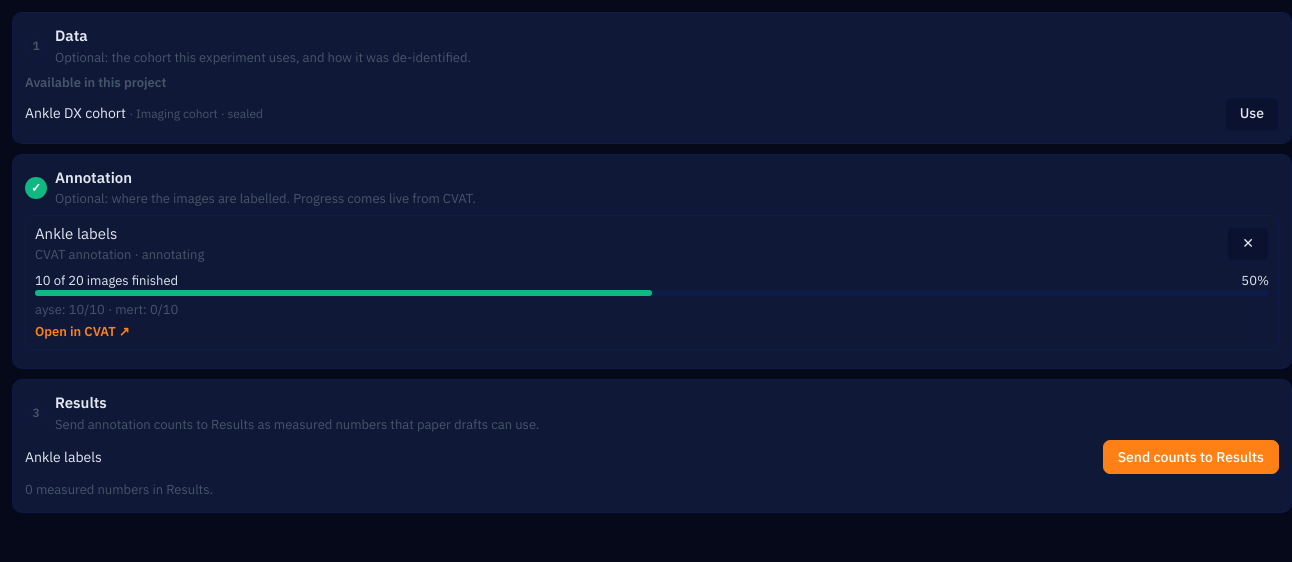
Test: ExperimentDataTab flow › shows live CVAT progress, links to CVAT, and sends counts to Results
The image size is (1292, 562).
Expected: the text "10 of 20 images finished" is shown, x1=35 y1=270 x2=178 y2=290
Expected: the text "ayse: 10/10 · mert: 0/10" is shown, x1=35 y1=301 x2=178 y2=318
Click the button "Send counts to Results" at (1191, 457), box x1=1103 y1=440 x2=1279 y2=474
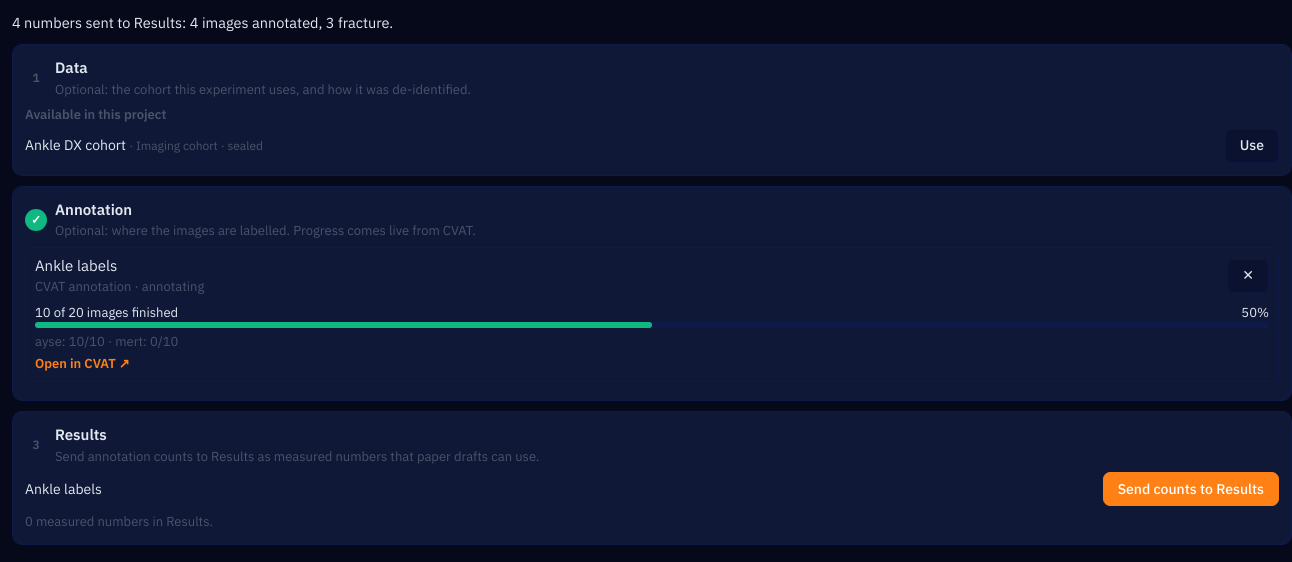
Now the text "4 numbers sent to Results: 4 images annotated, 3 fracture." is shown, box x1=12 y1=13 x2=393 y2=32
